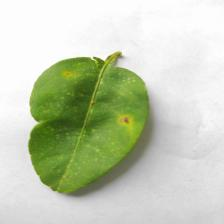greening: (20, 62, 156, 196)
